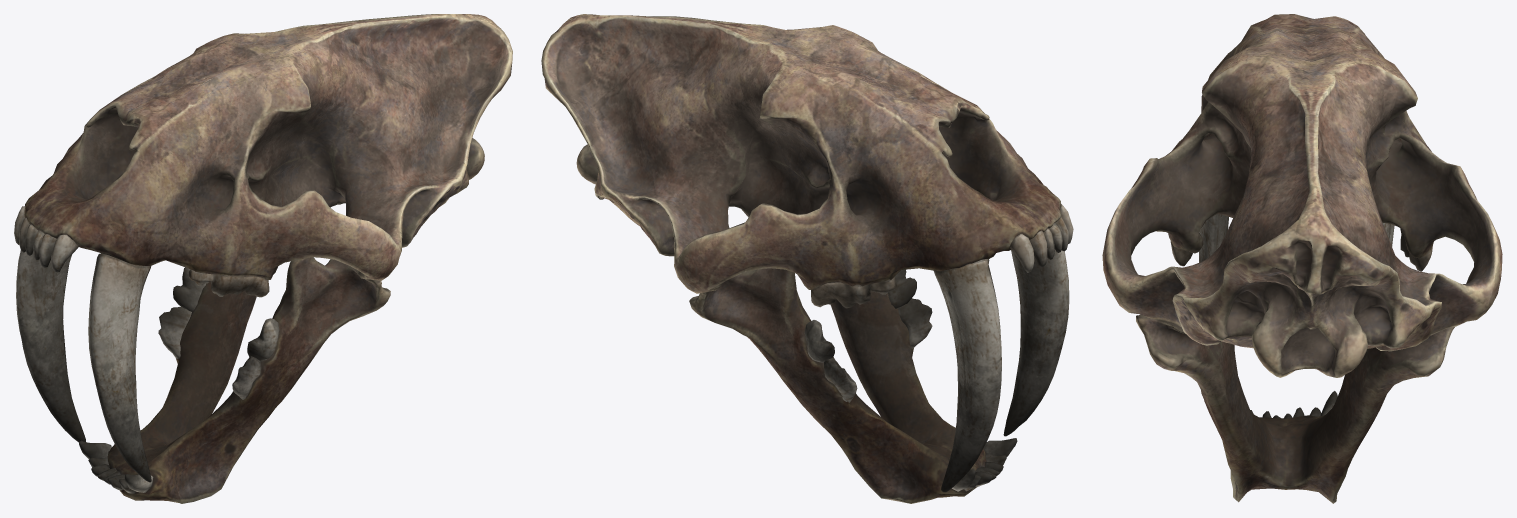
File: smilodon3D.glb
The picture shows the model from 3 angles, left to right: view 1: azimuth 30°, elevation 25°; view 2: azimuth 150°, elevation 25°; view 3: azimuth 270°, elevation 25°; orthographic projection. The views are drawn at different scales.
Visible parts, largest first — view 1: Crane_low, Machoire_low, Dents_low; view 2: Crane_low, Machoire_low, Dents_low; view 3: Crane_low, Machoire_low, Dents_low.
Part boxes in pixels (x1=…): Crane_low: x1=24, y1=14, x2=512, y2=280; Machoire_low: x1=107, y1=257, x2=390, y2=503; Dents_low: x1=14, y1=206, x2=279, y2=493; Crane_low: x1=541, y1=14, x2=1061, y2=293; Machoire_low: x1=689, y1=268, x2=986, y2=503; Dents_low: x1=804, y1=204, x2=1073, y2=492; Crane_low: x1=1102, y1=14, x2=1502, y2=377; Machoire_low: x1=1136, y1=314, x2=1454, y2=503; Dents_low: x1=1170, y1=213, x2=1432, y2=418.
Bounding box in the file's own units: 5.68 × 4.7 × 3.43.
1 material, 1 textured.
